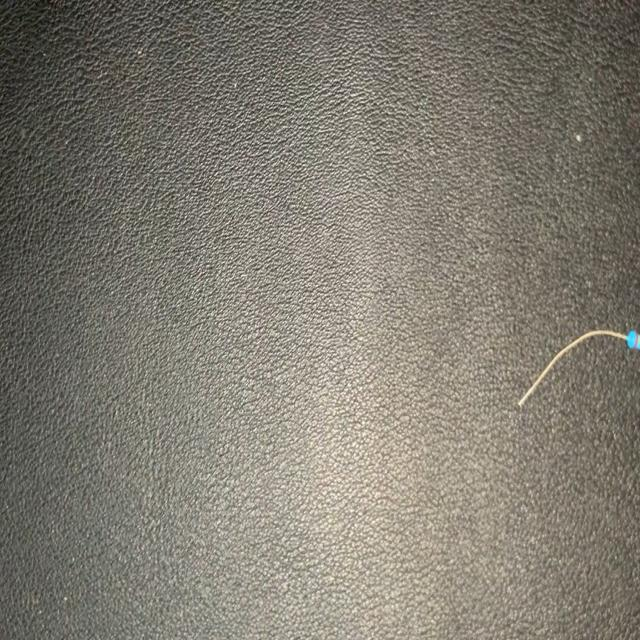resistor: (511, 319, 640, 414)
